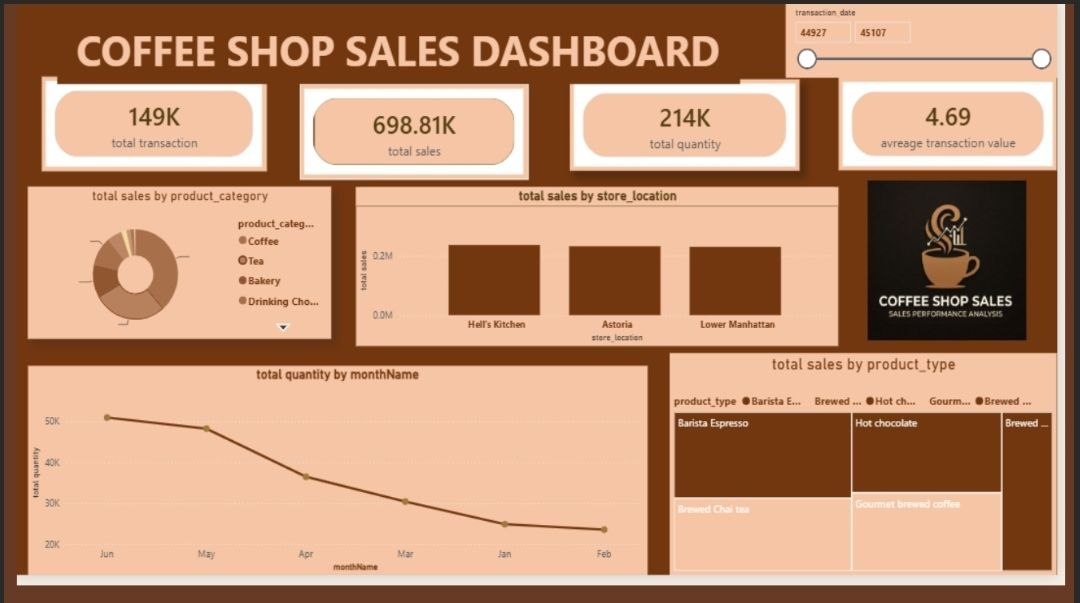

Layout of this report page (visuals, bound fields, positions):
{"tool":"powerbi","page":{"name":"coffee shop ","canvas":[1392,720],"ordinal":0},"visuals":[{"type":"cardVisual","fields":{"Data":["Sheet1.total transaction"]},"box":[35.6,91.5,301.7,120.3],"z":0},{"type":"cardVisual","fields":{"Data":["Sheet1.total quantity"]},"box":[740.7,96.6,306.8,115.3],"z":1000},{"type":"cardVisual","fields":{"Data":["Sheet1.total sales"]},"box":[380.8,101.9,305.1,120.3],"z":2000},{"type":"cardVisual","fields":{"Data":["Sheet1.avreage transaction value"]},"box":[1099.5,94.5,291.5,116.9],"z":3000},{"type":"donutChart","fields":{"Category":["Sheet1.product_category"],"Y":["Sheet1.total sales"]},"box":[18.5,232.2,404.9,191.1],"z":4000},{"type":"columnChart","fields":{"Category":["Sheet1.store_location"],"Y":["Sheet1.total sales"]},"box":[454.2,232.2,645.3,201.4],"z":5000},{"type":"treemap","fields":{"Group":["Sheet1.product_type"],"Values":["Sheet1.total sales"]},"box":[874.6,440.7,516.9,279.7],"z":6000},{"type":"lineChart","fields":{"Category":["Calendar.monthName"],"Y":["Sheet1.total quantity"]},"box":[18.2,456.4,827.3,263.6],"z":7000},{"type":"slicer","fields":{"Values":["Sheet1.transaction_date"]},"box":[1029.6,0,362.7,93.2],"z":8000},{"type":"textbox","box":[57.7,0,911.5,101.9],"z":9000},{"type":"image","box":[1128.3,224,234.3,201.4],"z":10000}]}

Visuals, with their boxes in screenshot pixels (x1, y1, x2, y2):
cardVisual - Sheet1.total transaction: <bbox>24, 76, 255, 168</bbox>
cardVisual - Sheet1.total quantity: <bbox>564, 80, 799, 168</bbox>
cardVisual - Sheet1.total sales: <bbox>289, 84, 522, 176</bbox>
cardVisual - Sheet1.avreage transaction value: <bbox>838, 78, 1061, 167</bbox>
donutChart - Sheet1.product_category x Sheet1.total sales: <bbox>11, 183, 321, 330</bbox>
columnChart - Sheet1.store_location x Sheet1.total sales: <bbox>345, 183, 838, 337</bbox>
treemap - Sheet1.product_type x Sheet1.total sales: <bbox>666, 343, 1062, 557</bbox>
lineChart - Calendar.monthName x Sheet1.total quantity: <bbox>11, 355, 644, 557</bbox>
slicer - Sheet1.transaction_date: <bbox>785, 6, 1062, 77</bbox>
textbox: <bbox>41, 6, 739, 84</bbox>
image: <bbox>860, 177, 1040, 331</bbox>
